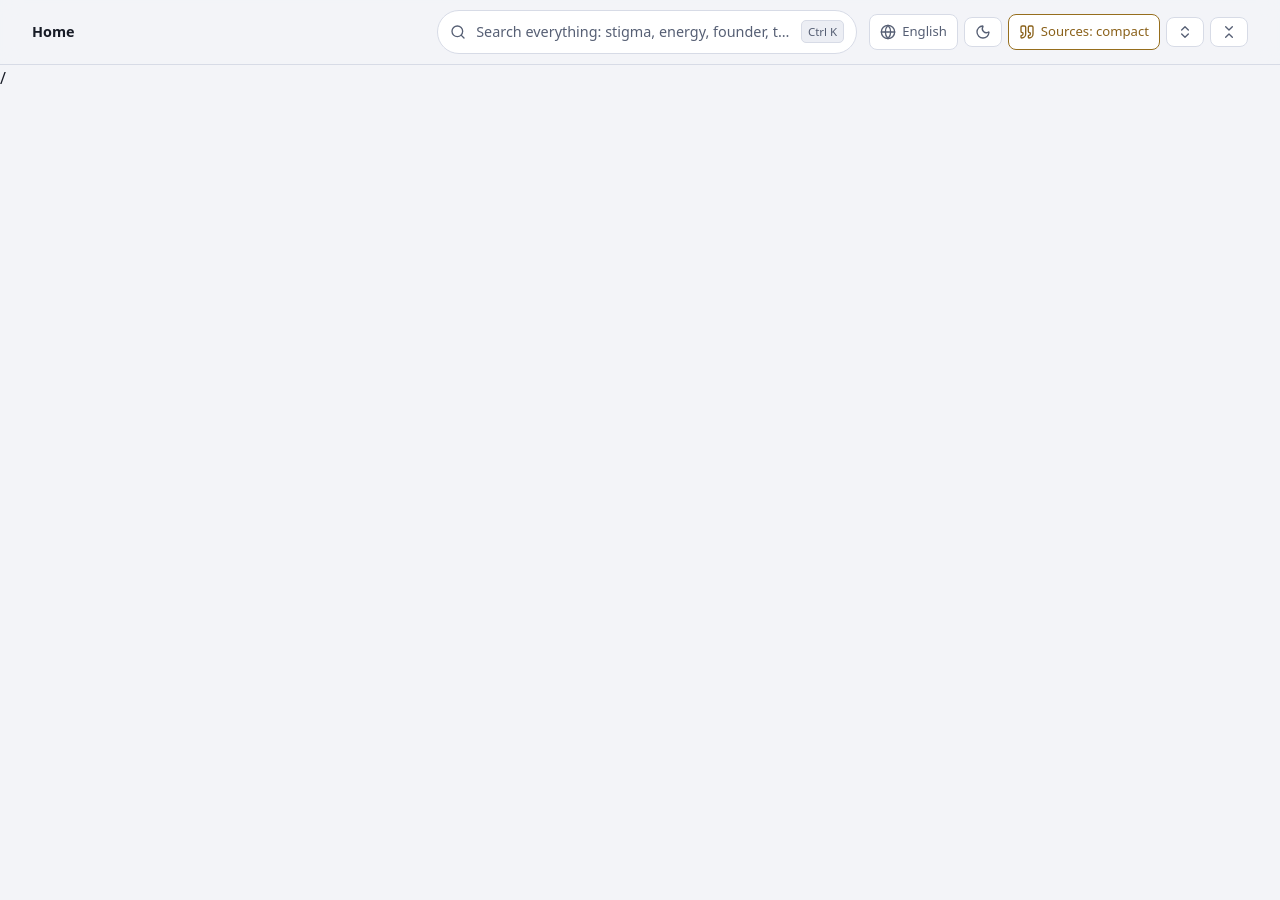
Test: SearchDialog (via TopBar) › pressing Enter with no arrow-key selection navigates to the first hit (sel starts at 0)
Click the button "Search everything" at (647, 32), box [437,10,857,54]
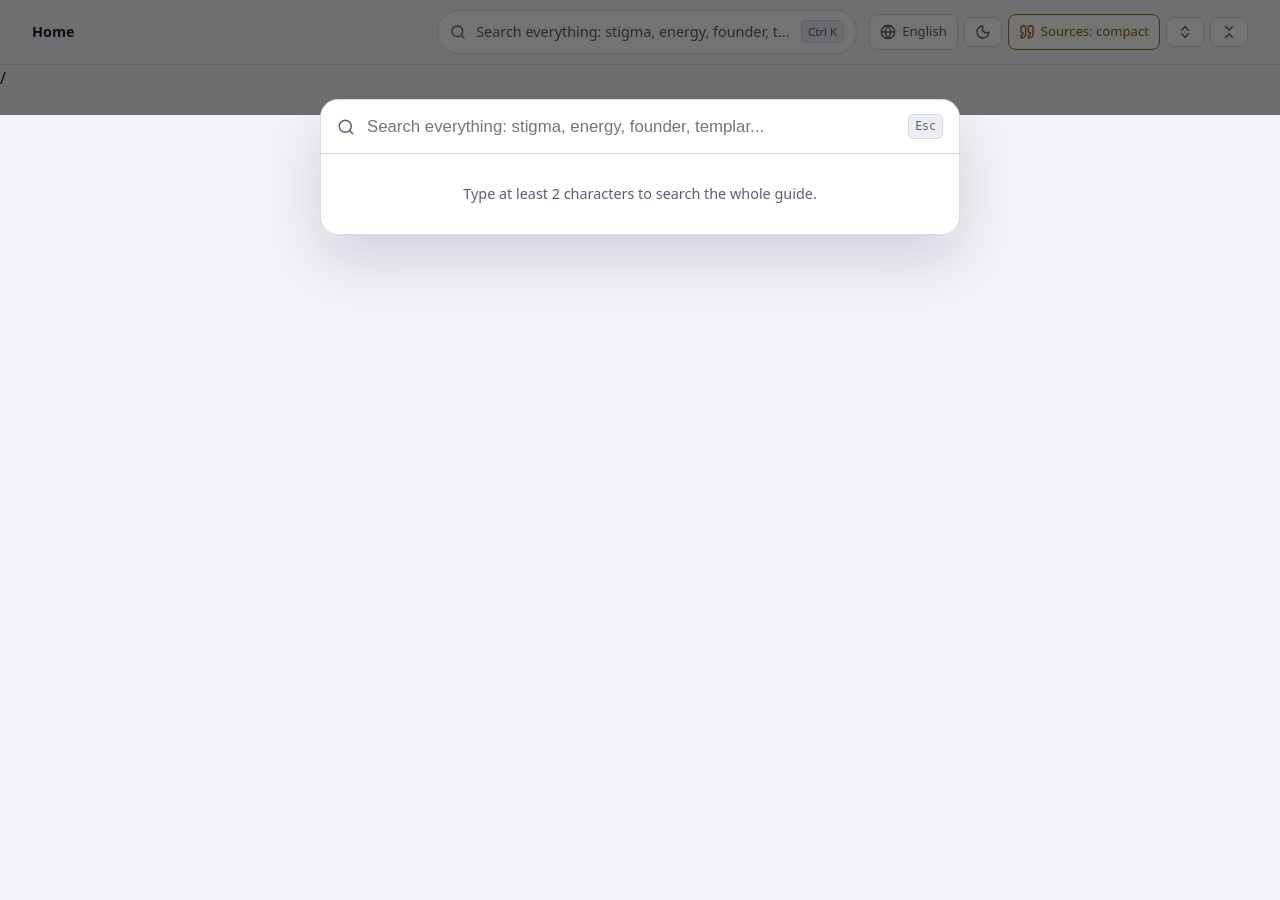
Type "founder" into the field with placeholder "Search everything: stigma, energy, founder, templar..." at (632, 126), box [365,116,898,138]
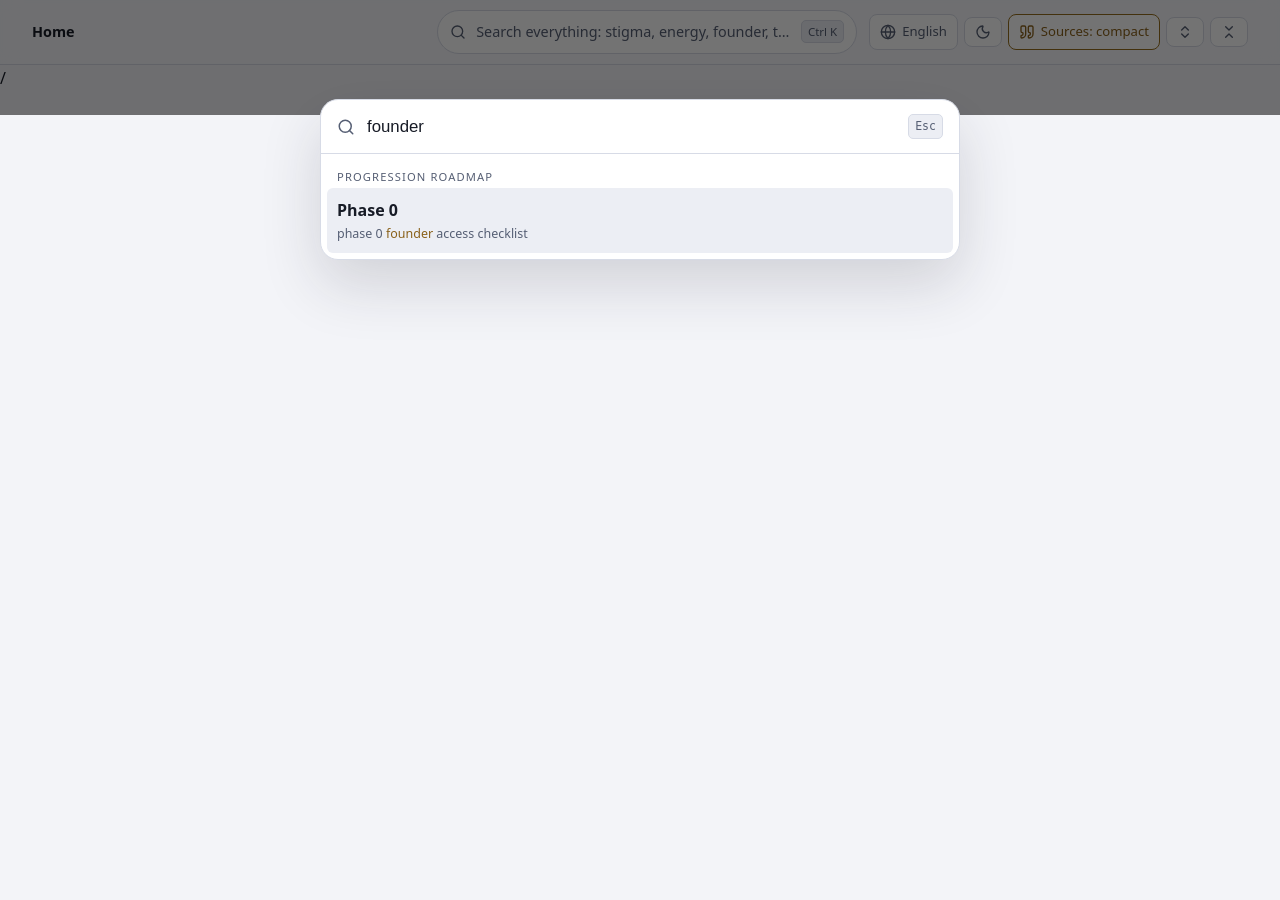
Expected: the text "Phase 0" is shown, [337,200,398,222]
Press Enter in the field, box [365,116,898,138]
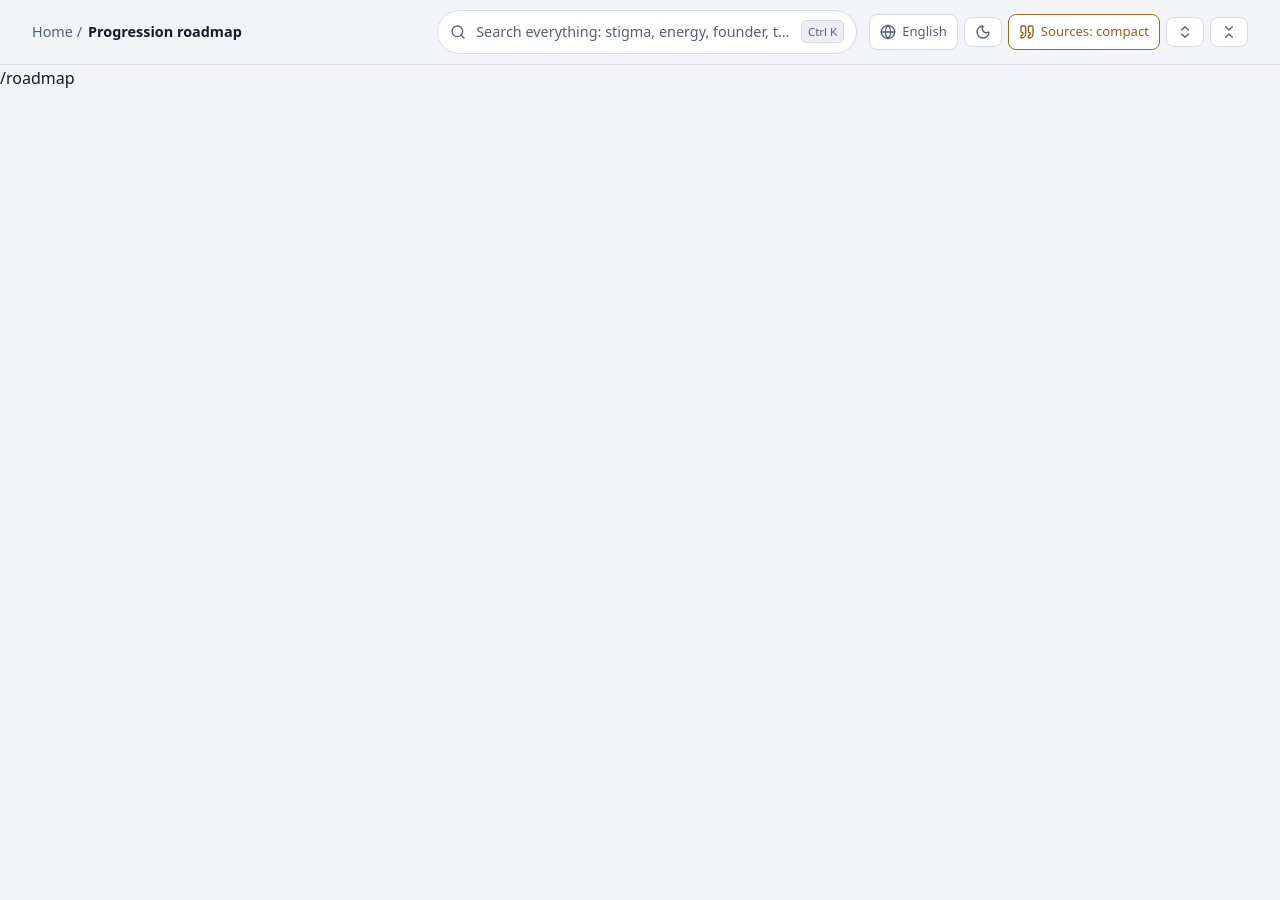
Expected: the text with test id "location" reads "/roadmap", [0,67,74,89]
Expected: the dialog is gone
